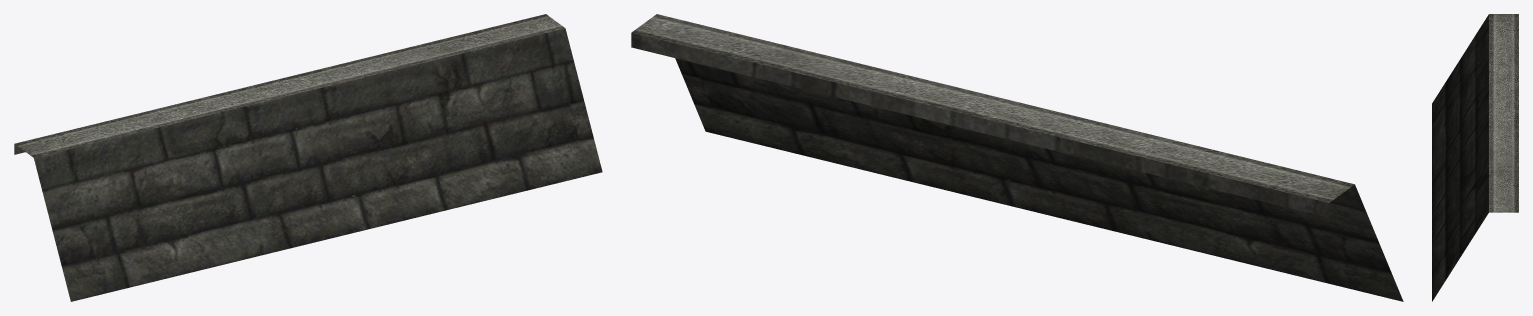
File: stadium_01_03.fbx
3 renders of one model, left to right at view 1: azimuth 30°, elevation 25°; view 2: azimuth 150°, elevation 25°; view 3: azimuth 270°, elevation 25°, orthographic. The views are drawn at different scales.
Visible parts, largest first — view 1: stadium_01_03; view 2: stadium_01_03; view 3: stadium_01_03.
Part boxes in pixels (box(x1,y1,x2,y2)): stadium_01_03: box(14, 14, 602, 301); stadium_01_03: box(631, 14, 1403, 301); stadium_01_03: box(1432, 14, 1518, 301).
Size of the model in its own units: 18 by 3.78 by 3.32.
